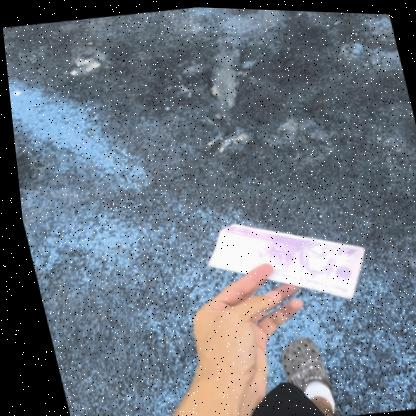one_hundred-back-vef: (191, 203, 371, 316)
